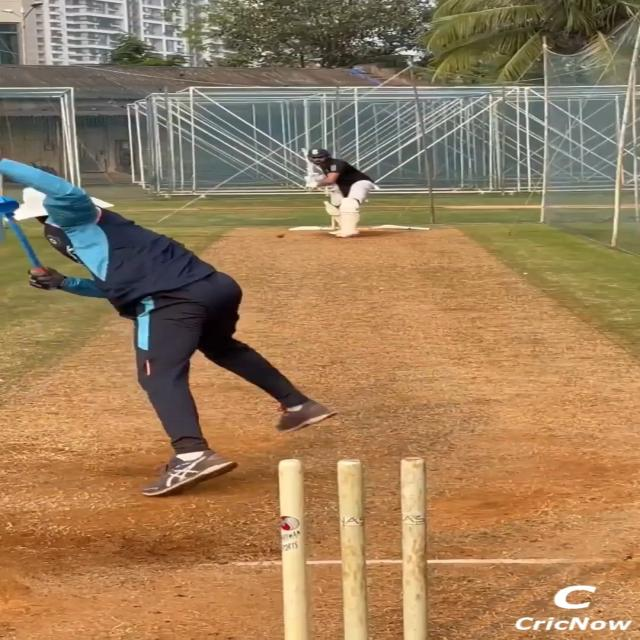Cricket ball: (276, 456, 429, 640), (275, 232, 286, 238)
